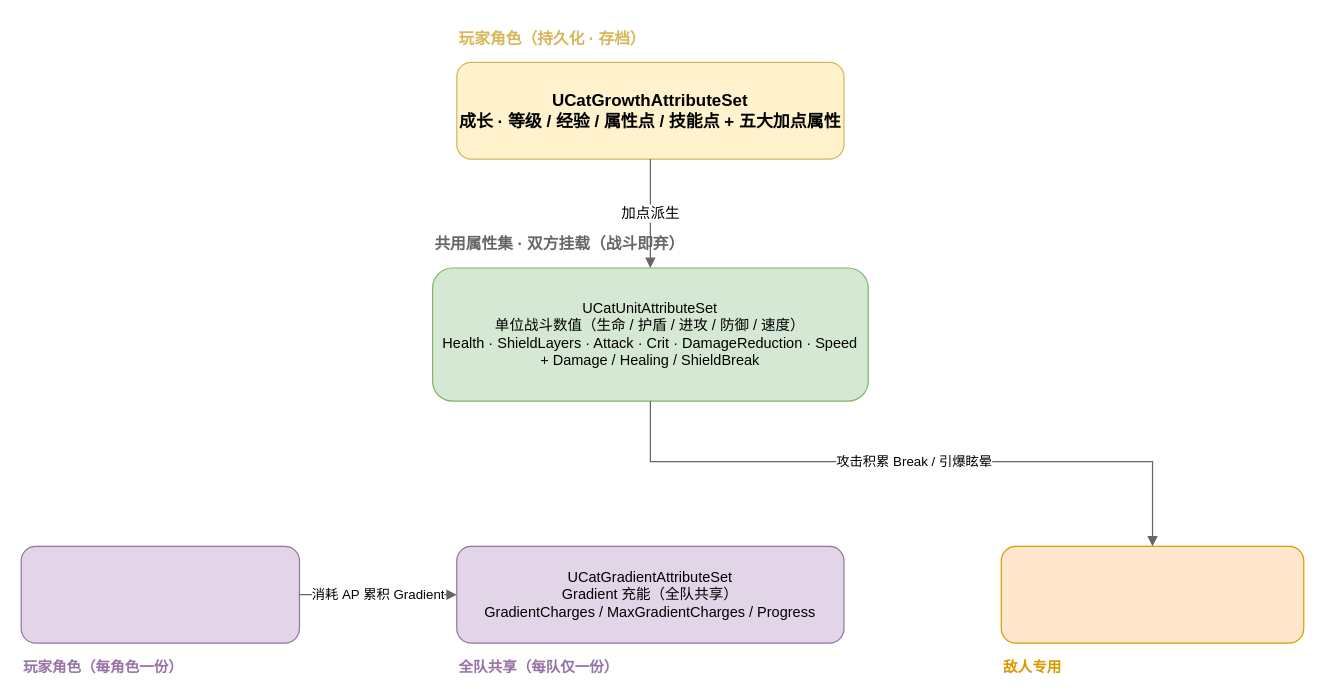
The diagram is 1325 pixels wide and 699 high, and some of its shapes have lost their labels. Each missing label, with the centre of its shape:
"UCatPostureAttributeSet 姿态（敌人） Break / MaxBreak / BreakRegen / StunTurns" belongs at pixel 1152 594.
"UCatTurnResourceAttributeSet 回合资源（玩家角色） AP / MaxAP" belongs at pixel 159 594.
